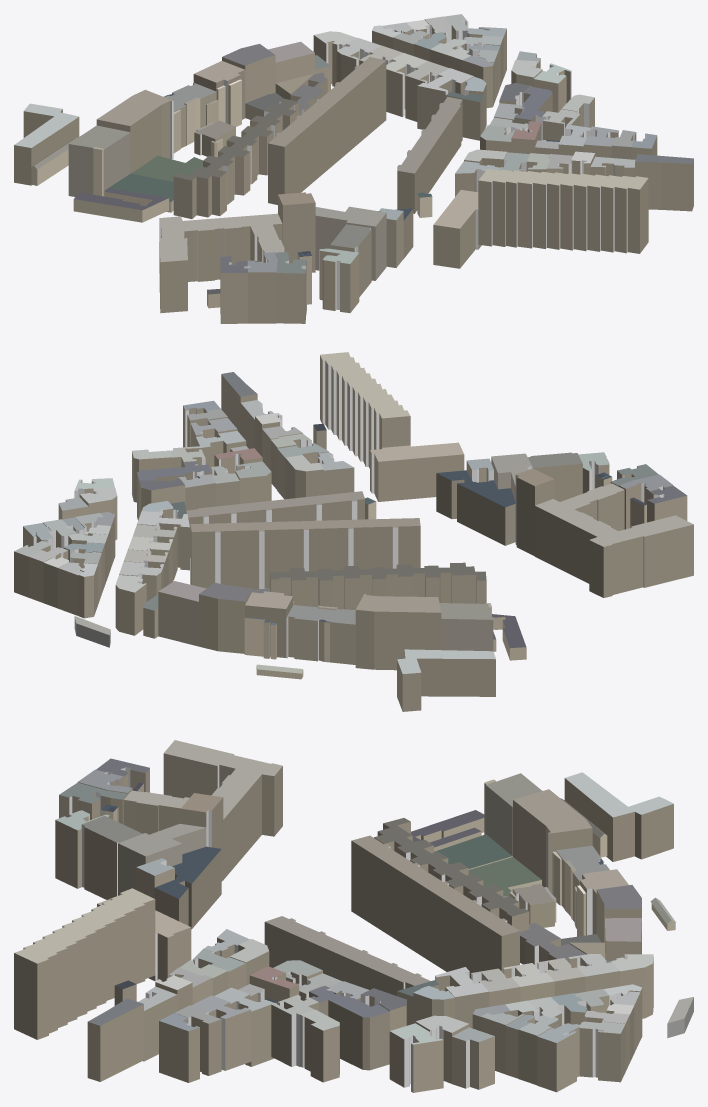
3 renders of one model, top to bottom at view 1: azimuth 30°, elevation 25°; view 2: azimuth 150°, elevation 25°; view 3: azimuth 270°, elevation 25°, orthographic. The views are drawn at different scales.
Visible parts, largest first — view 1: tuile; view 2: tuile; view 3: tuile.
Part boxes in pixels (bbox=[...]): tuile: bbox=[14, 14, 693, 323]; tuile: bbox=[14, 352, 693, 711]; tuile: bbox=[14, 740, 693, 1092].
Size of the model in its own units: 286 by 40.12 by 277.
